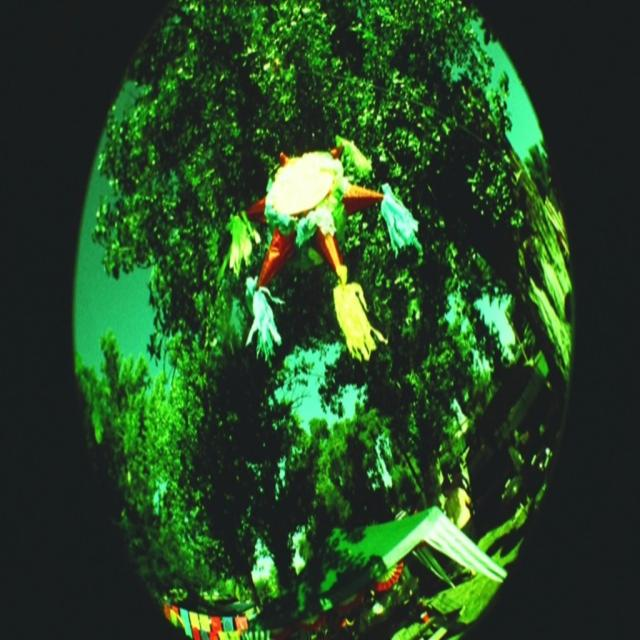Toy: (224, 135, 420, 367)
